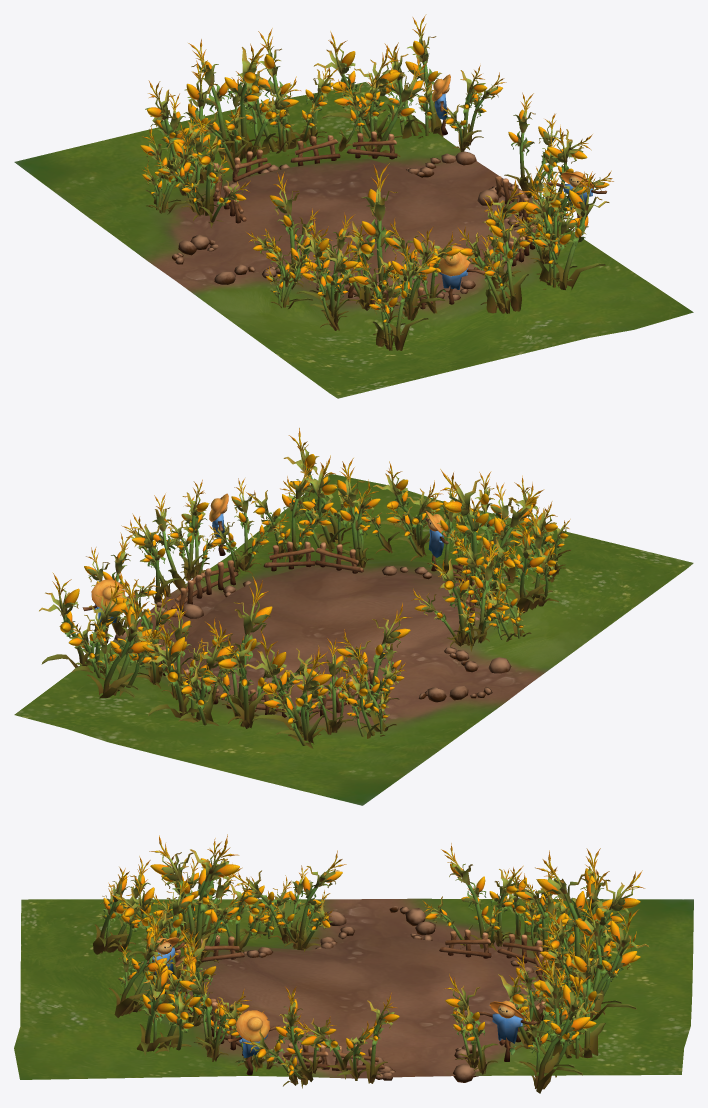
File: environment_export.fbx
The picture shows the model from 3 angles, top to bottom: view 1: azimuth 30°, elevation 25°; view 2: azimuth 150°, elevation 25°; view 3: azimuth 270°, elevation 25°; orthographic projection. The views are drawn at different scales.
Parts seen in each view (by area): view 1: groundplane, corn, corn_2, fences, rocs, scarecrows; view 2: groundplane, corn, corn_2, fences, rocs, scarecrows; view 3: groundplane, corn, corn_2, fences, scarecrows, rocs.
Boxes of the visible parts, x1,y1,x2,y2 form: groundplane: (14, 82, 693, 398); corn: (154, 39, 613, 321); corn_2: (140, 14, 609, 350); fences: (210, 131, 537, 309); rocs: (172, 151, 519, 300); scarecrows: (431, 74, 606, 304); groundplane: (14, 474, 693, 805); corn: (84, 458, 544, 734); corn_2: (39, 428, 570, 748); fences: (158, 541, 479, 718); rocs: (114, 566, 511, 713); scarecrows: (82, 493, 448, 642); groundplane: (14, 898, 693, 1079); corn: (110, 834, 645, 1088); corn_2: (93, 838, 648, 1093); fences: (169, 929, 549, 1070); scarecrows: (143, 937, 537, 1075); rocs: (173, 906, 534, 1082).
Size of the model in its own units: 5883 by 2106 by 8480.
